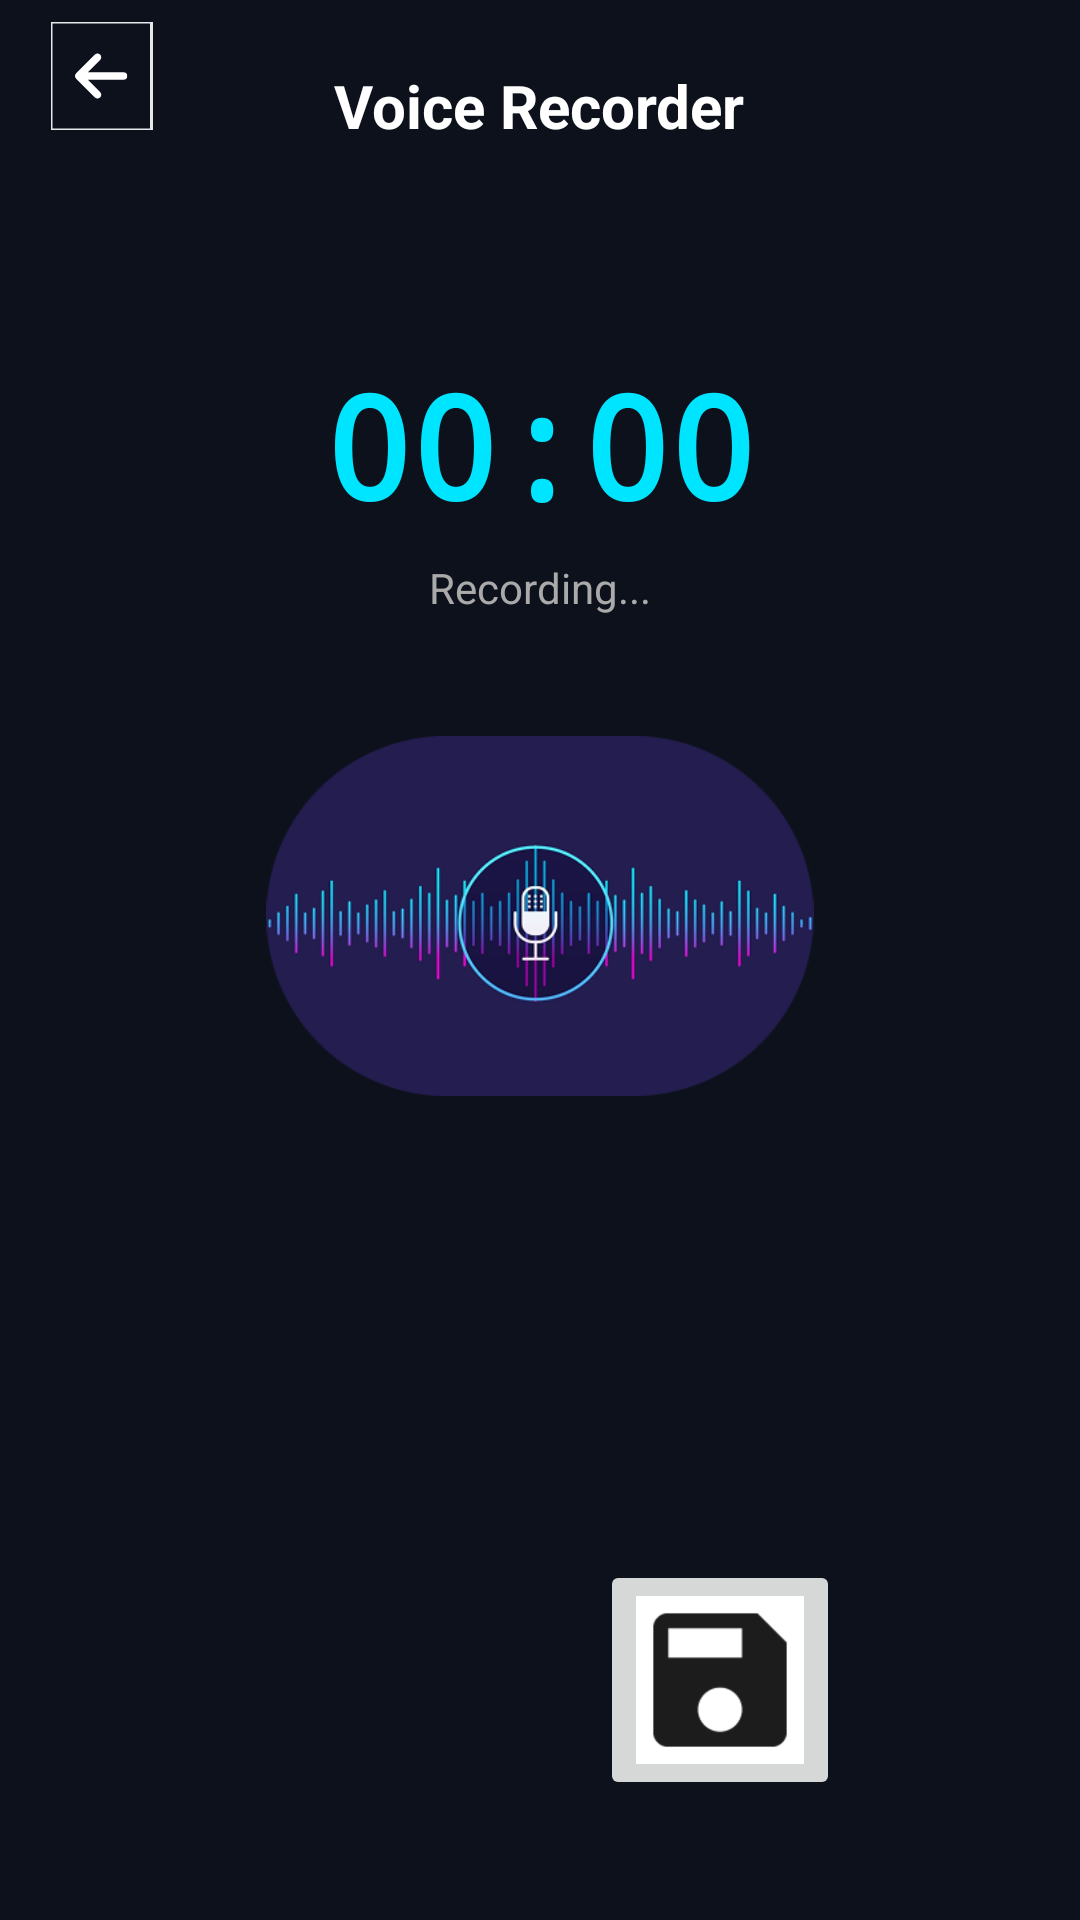

Icons on this 1080px x 1920px Android screen, each with the point to tap as (x=x, y=y):
Back: (x=102, y=76)
Save: (x=720, y=1680)
